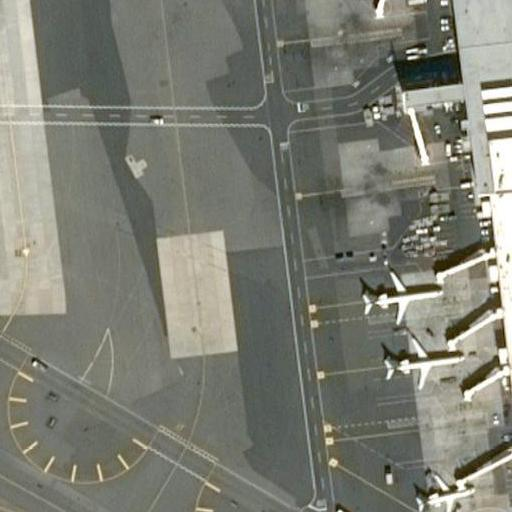Aircraft: (375, 328, 460, 385), (362, 254, 436, 308), (402, 461, 471, 512)
